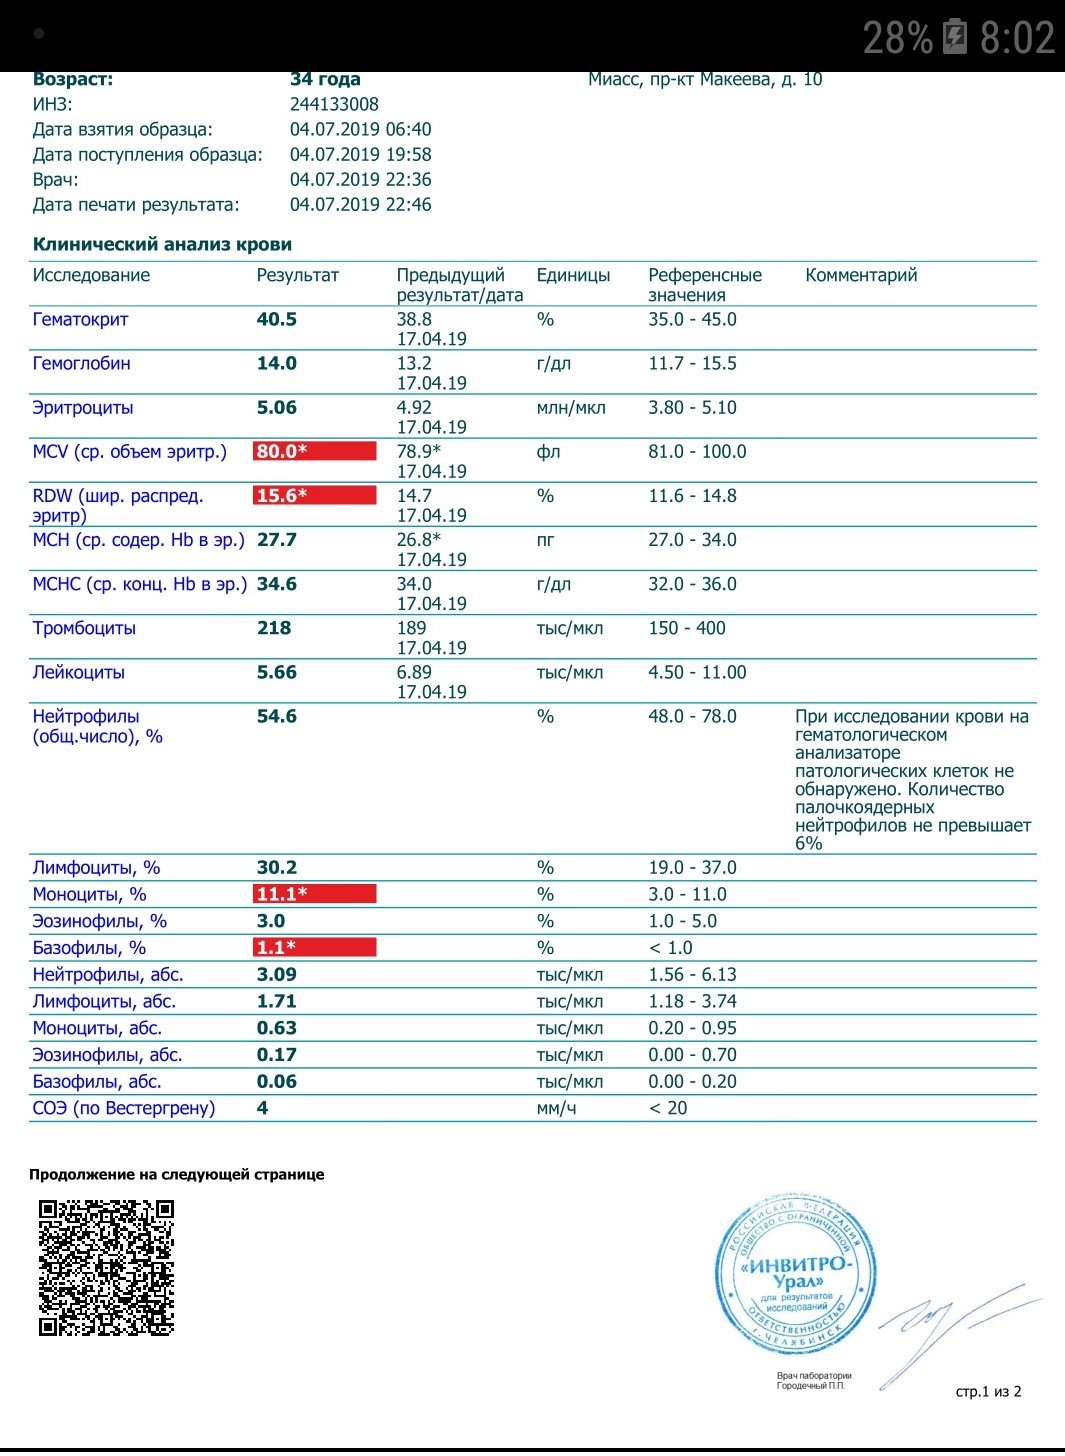column: (794, 261, 1032, 1121), (32, 261, 246, 1121), (396, 261, 523, 1121), (647, 261, 763, 1121), (256, 261, 340, 1121), (536, 261, 611, 1121)
